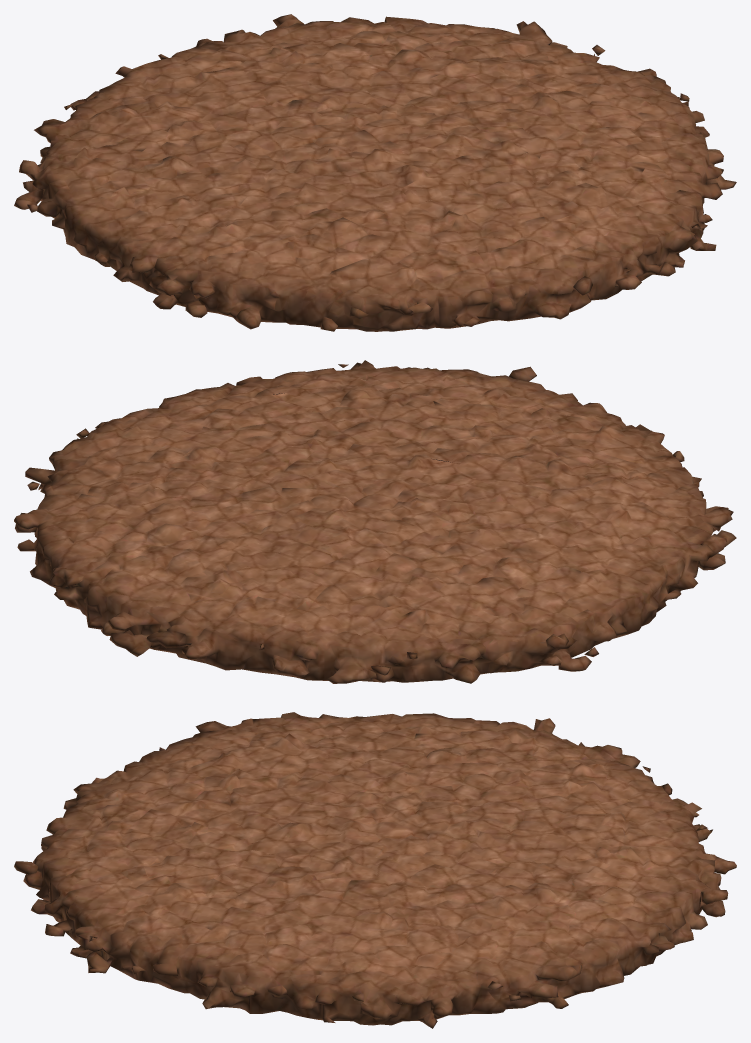
The model's file is carne.glb.
3 views of the same model, one above another, from view 1: azimuth 30°, elevation 25°; view 2: azimuth 150°, elevation 25°; view 3: azimuth 270°, elevation 25° (orthographic).
Visible parts, largest first — view 1: carne; view 2: carne; view 3: carne.
Part boxes in pixels (box(x1,y1,x2,y2)): carne: box(14, 14, 736, 331); carne: box(14, 360, 736, 683); carne: box(14, 712, 736, 1028).
Bounding box in the file's own units: 2.39 × 0.2471 × 2.49.
Materials: 1 (1 with a texture image).
